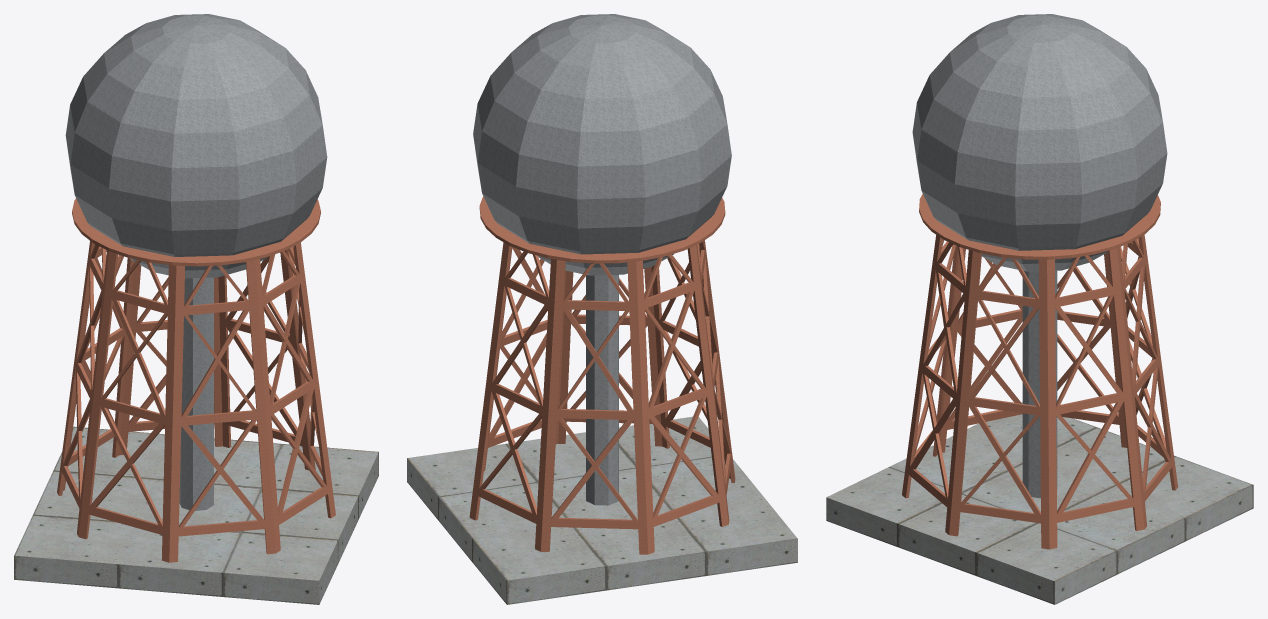
File: GMLID_1381455_184173_656.dae
The picture shows the model from 3 angles, left to right: view 1: azimuth 30°, elevation 25°; view 2: azimuth 150°, elevation 25°; view 3: azimuth 270°, elevation 25°; orthographic projection. The views are drawn at different scales.
Size of the model in its own units: 14.81 by 14.81 by 18.72.
Materials: 3 (3 with a texture image).
